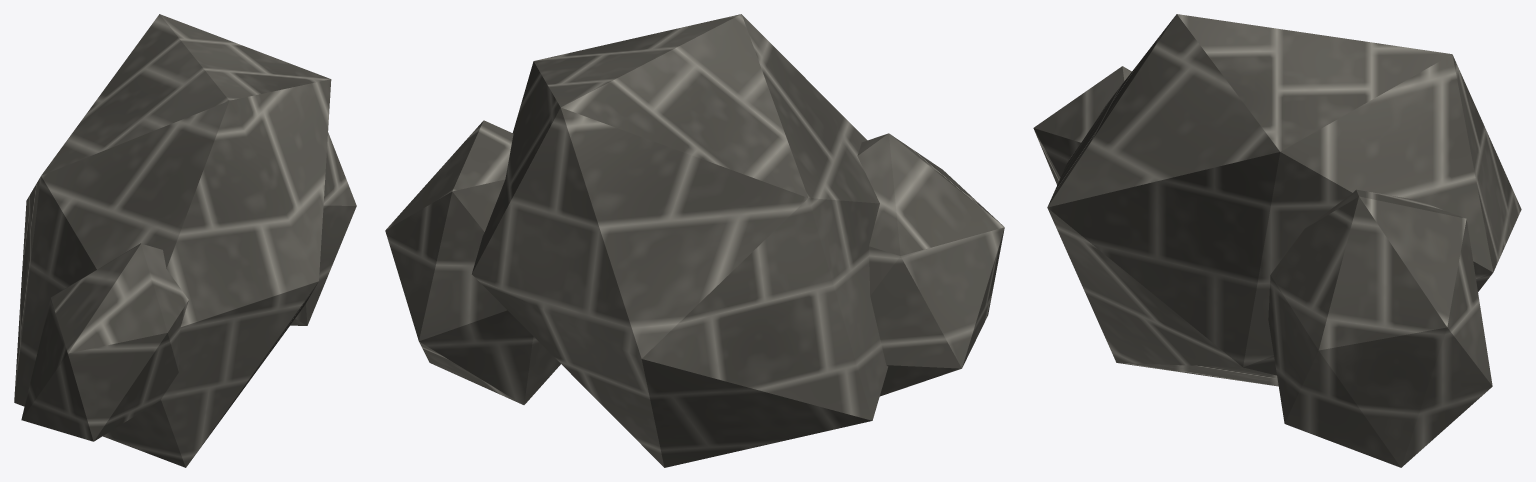
Rendered from rock.gltf.
3 views of the same model, side by side, from view 1: azimuth 30°, elevation 25°; view 2: azimuth 150°, elevation 25°; view 3: azimuth 270°, elevation 25° (orthographic). The views are drawn at different scales.
Parts seen in each view (by area): view 1: Rock; view 2: Rock; view 3: Rock.
Boxes of the visible parts, x1=… form: Rock: x1=14, y1=14, x2=356, y2=467; Rock: x1=385, y1=14, x2=1004, y2=467; Rock: x1=1033, y1=14, x2=1521, y2=467.
Size of the model in its own units: 0.9862 by 0.7774 by 0.8573.
Materials: 2 (2 with a texture image).
